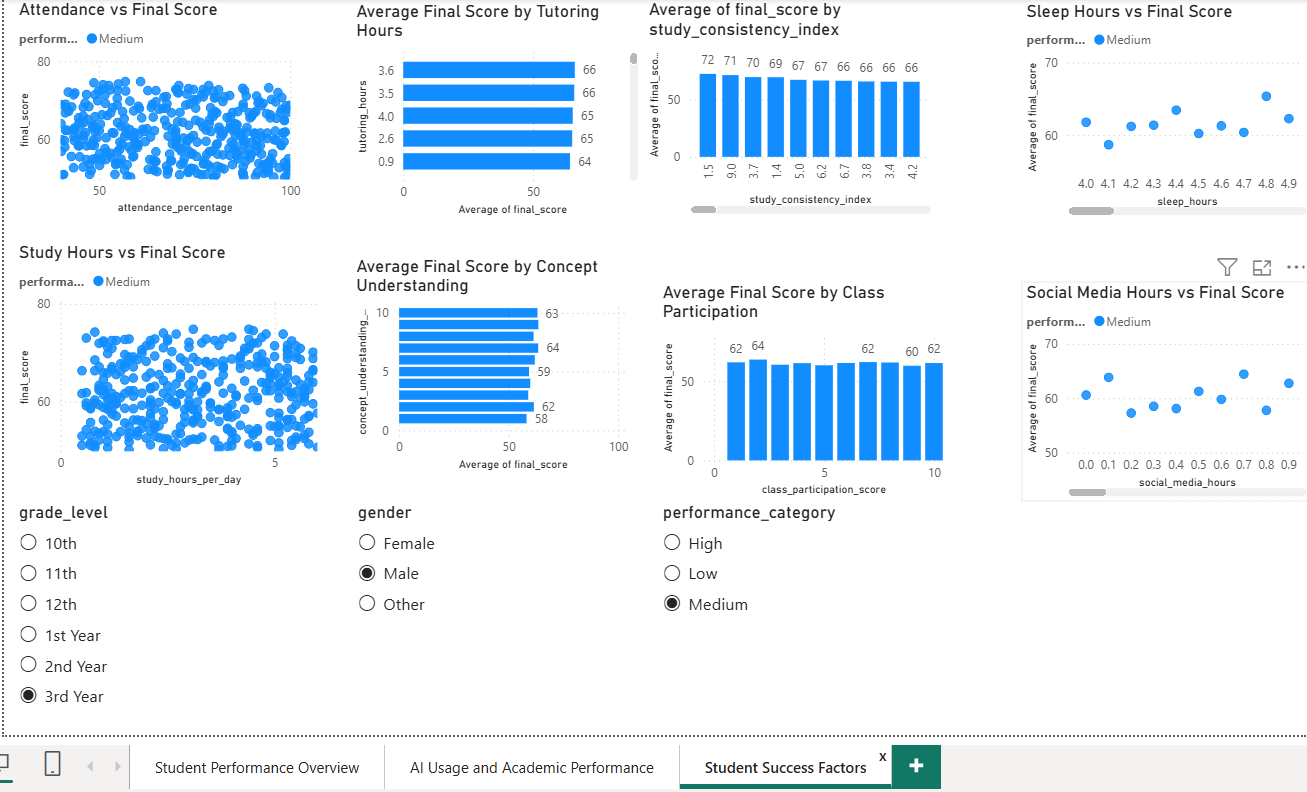

The dashboard page shown, as its layout file describes it:
{"tool":"powerbi","page":{"name":"Student Success Factors","canvas":[1280,720],"ordinal":2},"visuals":[{"type":"scatterChart","title":"Attendance vs Final Score","fields":{"Y":["ai_impact_student_performance_dataset.final_score"],"X":["ai_impact_student_performance_dataset.attendance_percentage"],"Series":["ai_impact_student_performance_dataset.performance_category"]},"box":[9.6,0,285.4,215.4],"z":0},{"type":"scatterChart","title":"Study Hours vs Final Score","fields":{"X":["ai_impact_student_performance_dataset.study_hours_per_day"],"Y":["ai_impact_student_performance_dataset.final_score"],"Series":["ai_impact_student_performance_dataset.performance_category"]},"box":[9.6,237.4,306,244.3],"z":1},{"type":"scatterChart","title":"Sleep Hours vs Final Score","fields":{"X":["ai_impact_student_performance_dataset.sleep_hours"],"Y":["Avg(ai_impact_student_performance_dataset.final_score)"],"Series":["ai_impact_student_performance_dataset.performance_category"]},"box":[994.9,1.4,285.4,215.4],"z":2},{"type":"scatterChart","title":"Social Media Hours vs Final Score","fields":{"X":["ai_impact_student_performance_dataset.social_media_hours"],"Y":["ai_impact_student_performance_dataset.final_score"],"Series":["ai_impact_student_performance_dataset.performance_category"]},"box":[994.9,275.8,285.4,215.4],"z":3},{"type":"clusteredBarChart","title":"Average Final Score by Tutoring Hours","fields":{"Y":["Avg(ai_impact_student_performance_dataset.final_score)"],"Category":["ai_impact_student_performance_dataset.tutoring_hours"]},"box":[340.3,1.4,285.4,215.4],"z":4},{"type":"clusteredBarChart","title":"Average Final Score by Concept Understanding","fields":{"Y":["Avg(ai_impact_student_performance_dataset.final_score)"],"Category":["ai_impact_student_performance_dataset.concept_understanding_score"]},"box":[340.3,251.1,285.4,215.4],"z":5},{"type":"clusteredColumnChart","title":"Average Final Score by Class Participation","fields":{"Category":["ai_impact_student_performance_dataset.class_participation_score"],"Y":["Avg(ai_impact_student_performance_dataset.final_score)"]},"box":[639,276,285,215],"z":6},{"type":"clusteredColumnChart","fields":{"Y":["Avg(ai_impact_student_performance_dataset.final_score)"],"Category":["ai_impact_student_performance_dataset.study_consistency_index"]},"box":[625.7,0,285.4,215.4],"z":7},{"type":"listSlicer","fields":{"Values":["ai_impact_student_performance_dataset.grade_level"]},"box":[10,491,306,229],"z":8},{"type":"listSlicer","fields":{"Values":["ai_impact_student_performance_dataset.gender"]},"box":[341.7,491.3,284,229.2],"z":9},{"type":"listSlicer","fields":{"Values":["ai_impact_student_performance_dataset.performance_category"]},"box":[639,491,285,229],"z":10}]}

Visuals, with their boxes on the page's 1280x720 design canvas (x1, y1, x2, y2). These are canvas units, not pixel positions in the 1307x792 screenshot, which may show the page scaled, cropped or inside an application window:
"Attendance vs Final Score" scatterChart: 10, 0, 295, 215
"Study Hours vs Final Score" scatterChart: 10, 237, 316, 482
"Sleep Hours vs Final Score" scatterChart: 995, 1, 1280, 217
"Social Media Hours vs Final Score" scatterChart: 995, 276, 1280, 491
"Average Final Score by Tutoring Hours" clusteredBarChart: 340, 1, 626, 217
"Average Final Score by Concept Understanding" clusteredBarChart: 340, 251, 626, 466
"Average Final Score by Class Participation" clusteredColumnChart: 639, 276, 924, 491
clusteredColumnChart - Avg(ai_impact_student_performance_dataset.final_score) x ai_impact_student_performance_dataset.study_consistency_index: 626, 0, 911, 215
listSlicer - ai_impact_student_performance_dataset.grade_level: 10, 491, 316, 720
listSlicer - ai_impact_student_performance_dataset.gender: 342, 491, 626, 720
listSlicer - ai_impact_student_performance_dataset.performance_category: 639, 491, 924, 720
